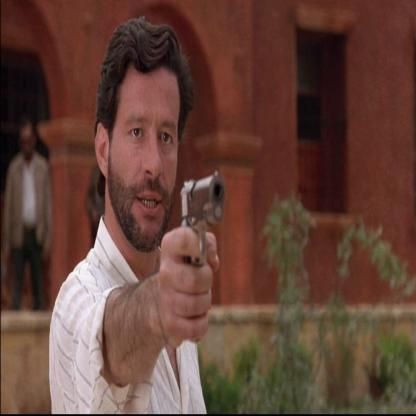gun: (171, 168, 230, 267)
